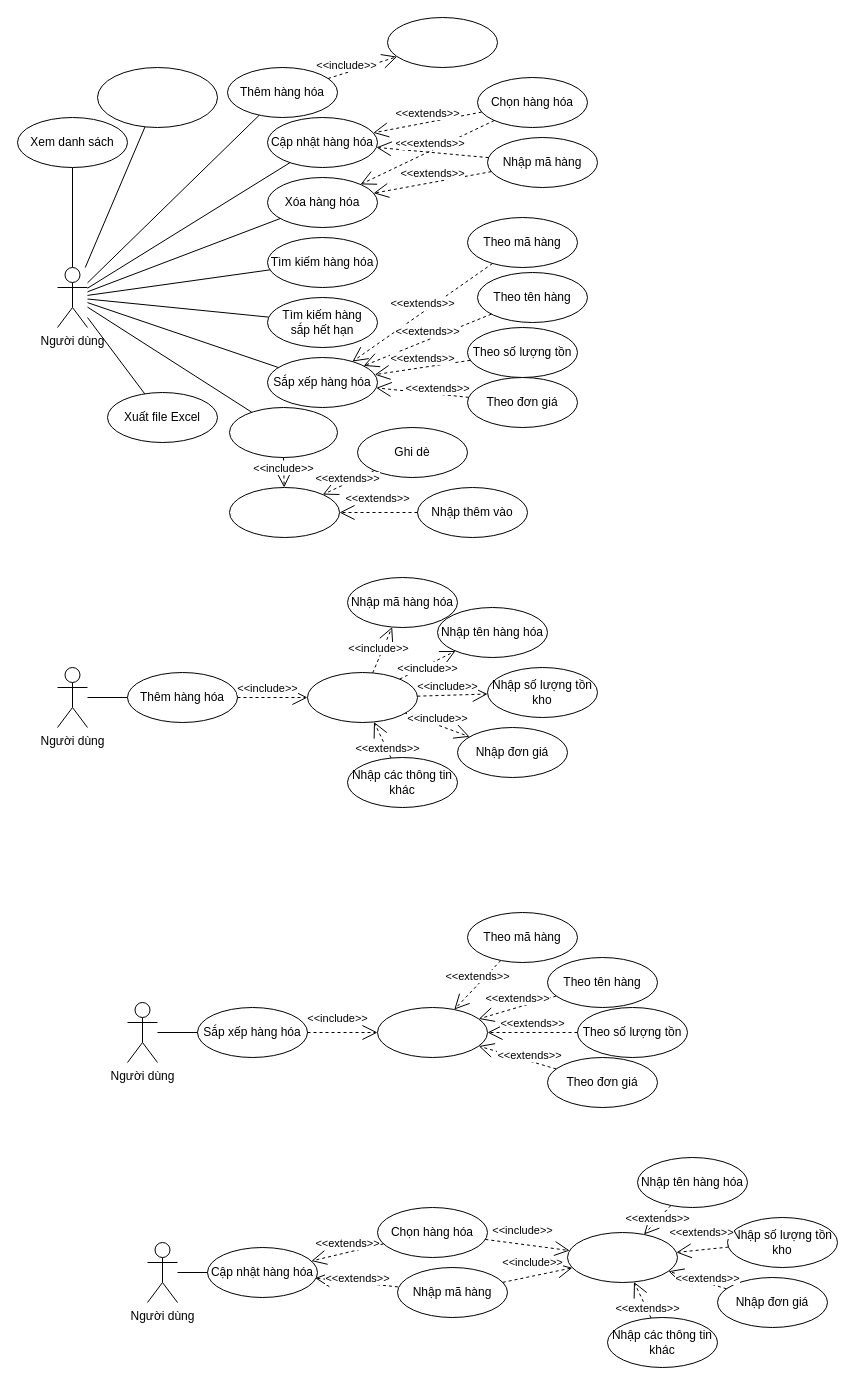
This 855x1385 diagram has some shape labels left out. Here are the shapes that lost their labels. From the top down, the centre of each, then its label:
At point (442, 42): "Nhập các thông tin".
At point (157, 97): "Xem tổng tồn kho từng loại hàng hóa".
At point (283, 432): "Nhập file Excel".
At point (284, 512): "Chọn các nhập".
At point (362, 697): "Chọn loại hàng hóa".
At point (432, 1032): "Chọn tiêu chí sắp xếp".
At point (622, 1257): "Chỉnh sửa thông tin".
